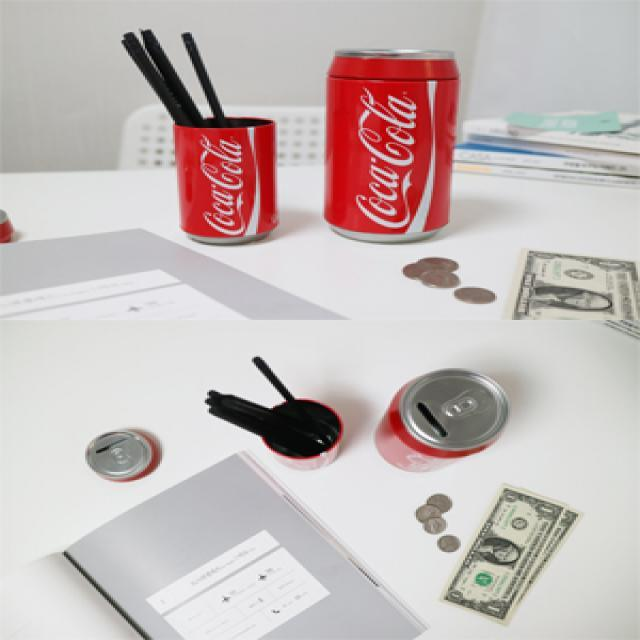coca-cola: (324, 51, 460, 247), (166, 124, 286, 242)
